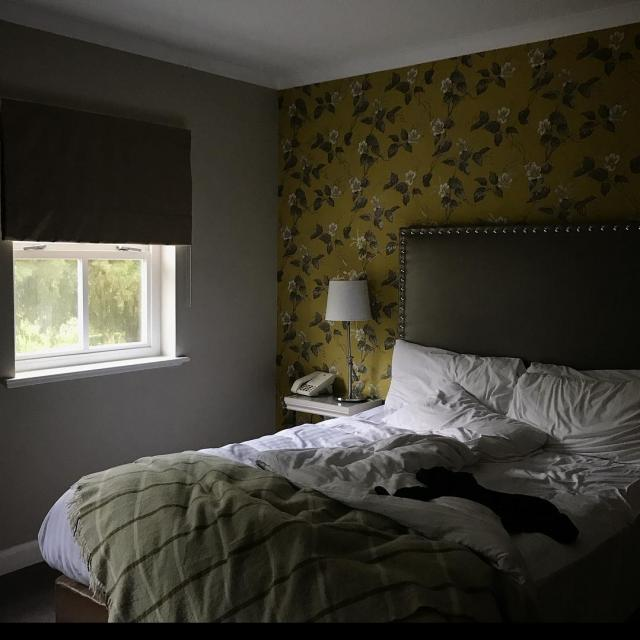bed: (73, 327, 640, 640)
